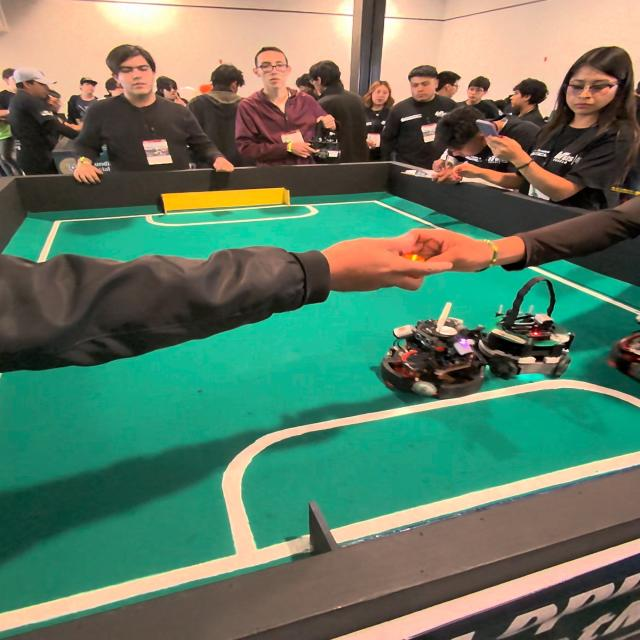Robot: (483, 275, 569, 385), (388, 316, 489, 397)
